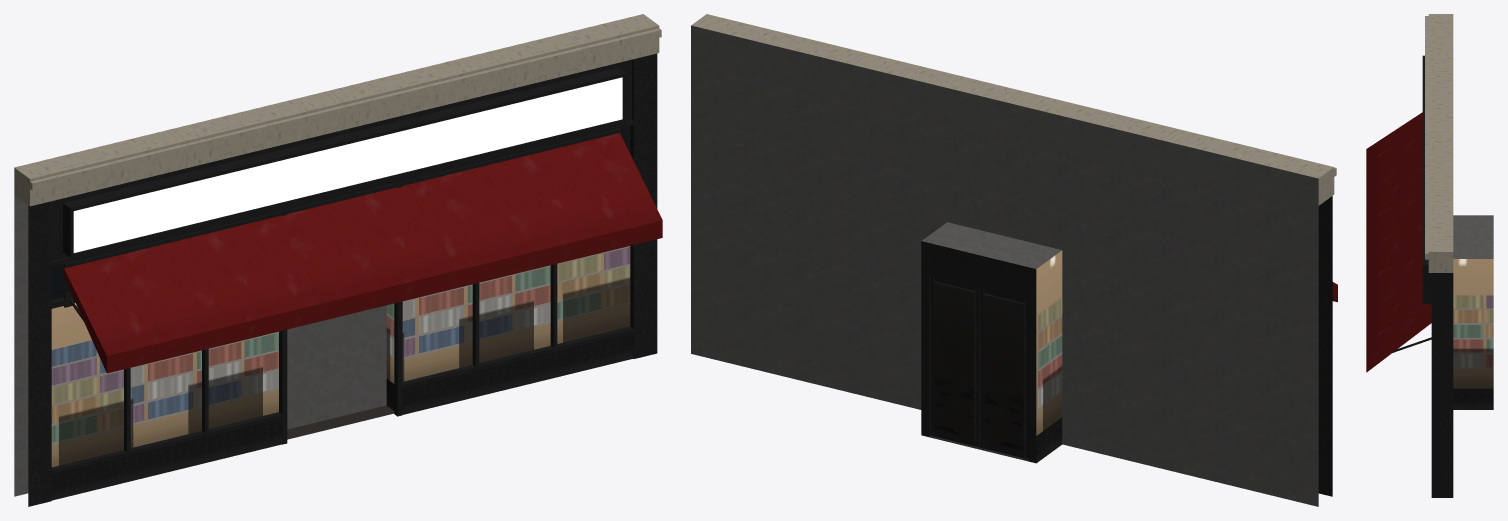
File: SM_Storefront.glb
3 views of the same model, side by side, from view 1: azimuth 30°, elevation 25°; view 2: azimuth 150°, elevation 25°; view 3: azimuth 270°, elevation 25° (orthographic). The views are drawn at different scales.
Parts seen in each view (by area): view 1: SM_Storefront; view 2: SM_Storefront; view 3: SM_Storefront.
Part boxes in pixels (x1,y1,x2,y2): SM_Storefront: (14,14,662,506); SM_Storefront: (691,14,1337,506); SM_Storefront: (1366,14,1493,497).
Bounding box in the file's own units: 12 × 6 × 2.71.
3 materials, 2 textured.
